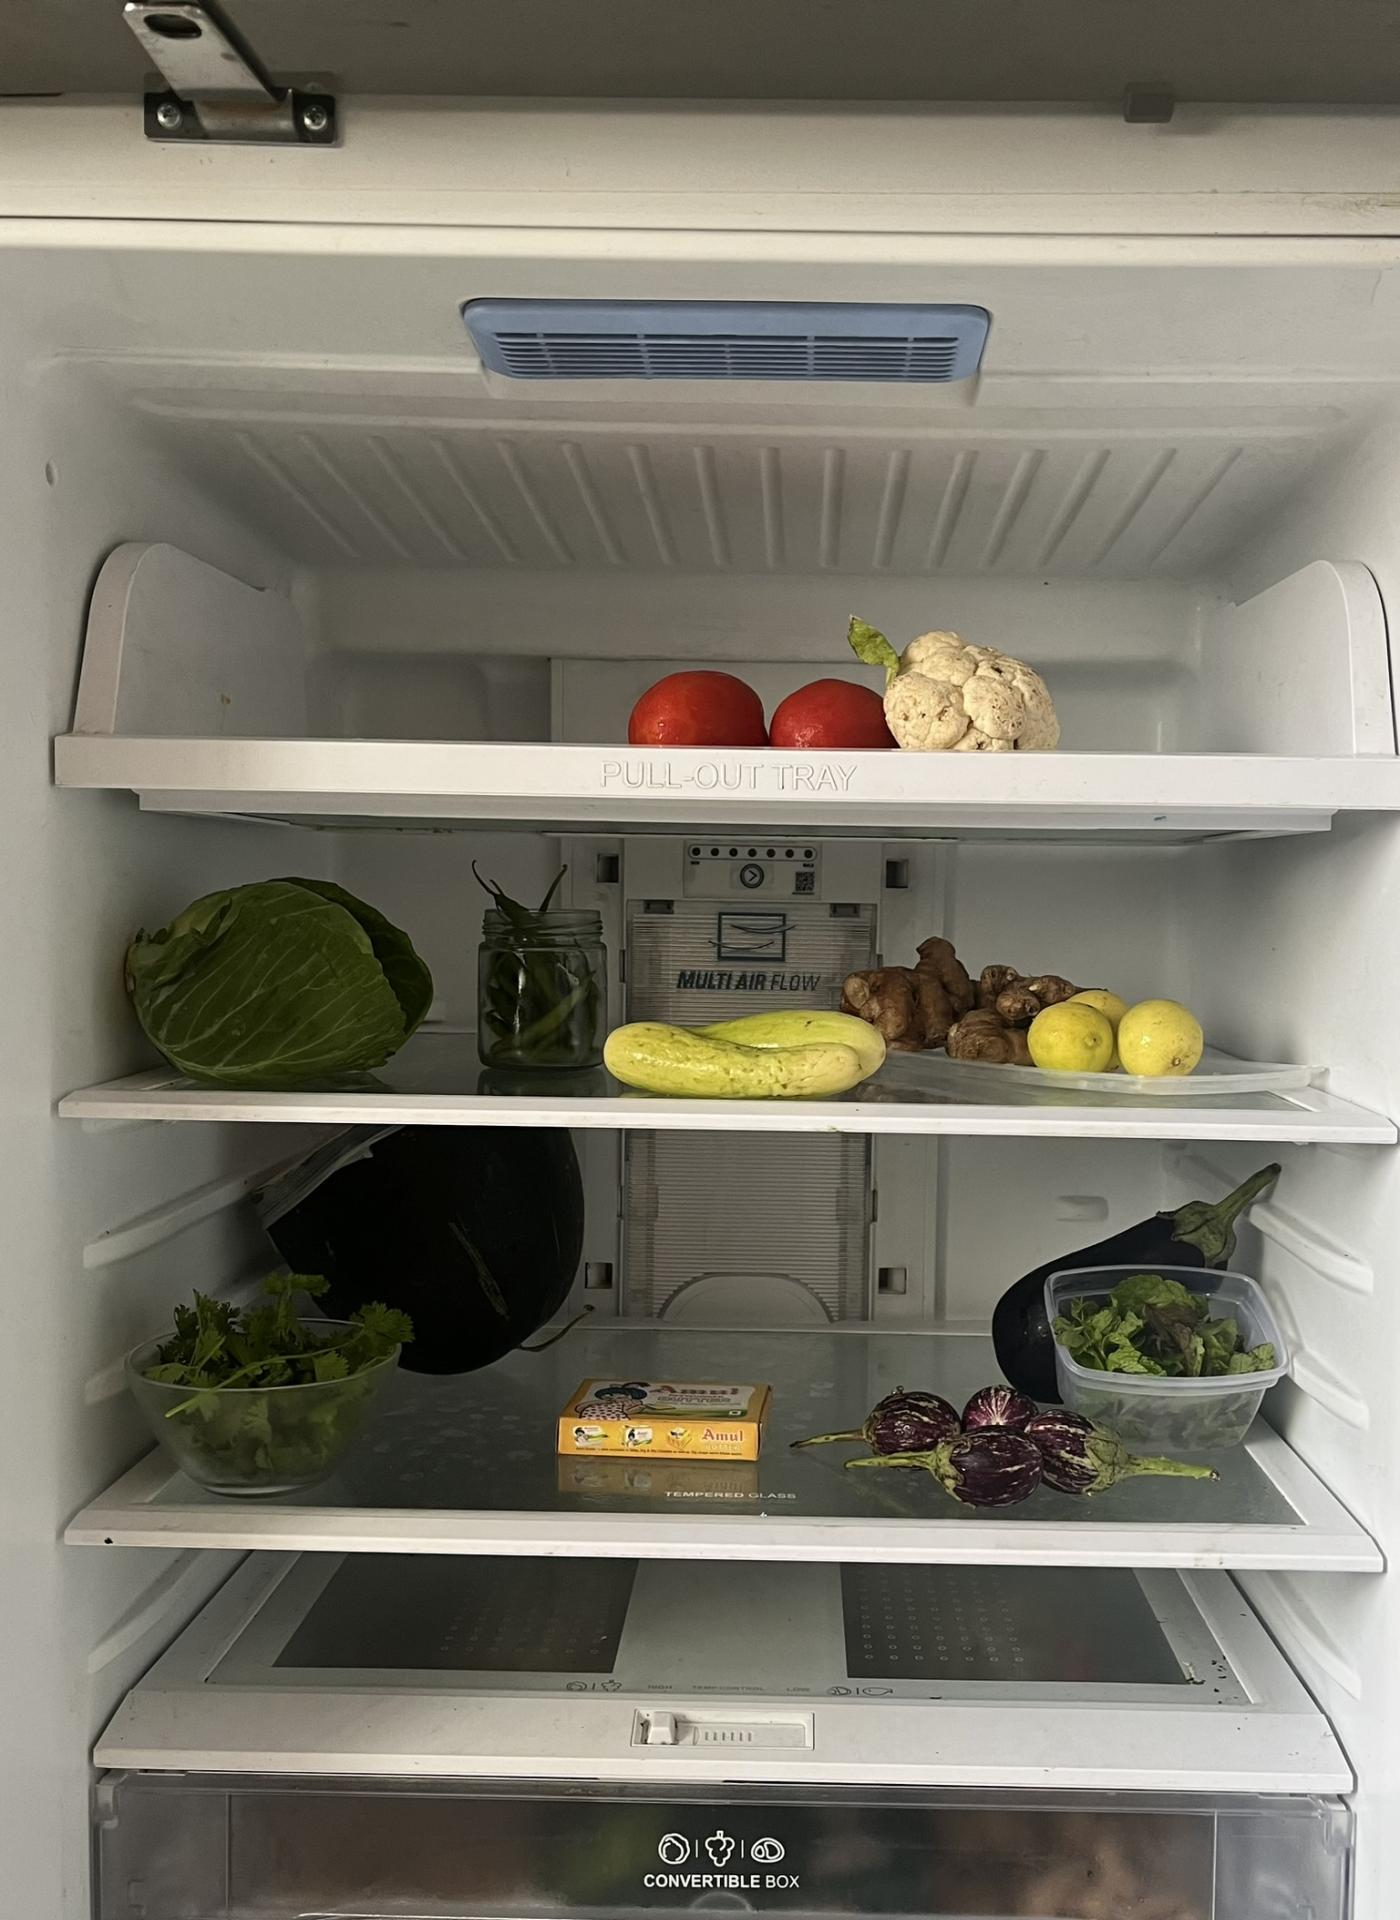basil: (1048, 1266, 1285, 1425)
butter: (562, 1371, 775, 1462)
cabbage: (128, 884, 437, 1078)
cauliflower: (890, 616, 1057, 756)
chillies: (474, 878, 595, 1066)
coriander: (152, 1272, 374, 1477)
cucumber: (605, 1000, 887, 1094)
garlic: (851, 926, 1060, 1063)
lemon: (1027, 988, 1200, 1078)
tomato: (632, 656, 887, 750)
watermelon: (261, 1125, 586, 1365)
